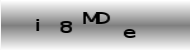8: (58, 19, 73, 35)
D: (97, 11, 110, 25)
M: (81, 10, 99, 25)
e: (123, 28, 136, 39)
i: (34, 18, 41, 32)
